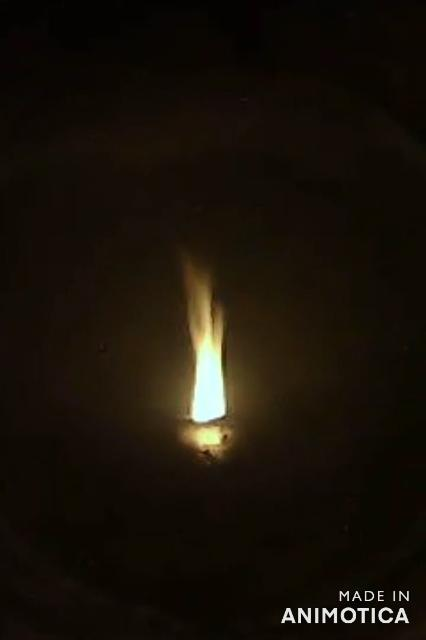burner flame: (182, 256, 232, 427)
